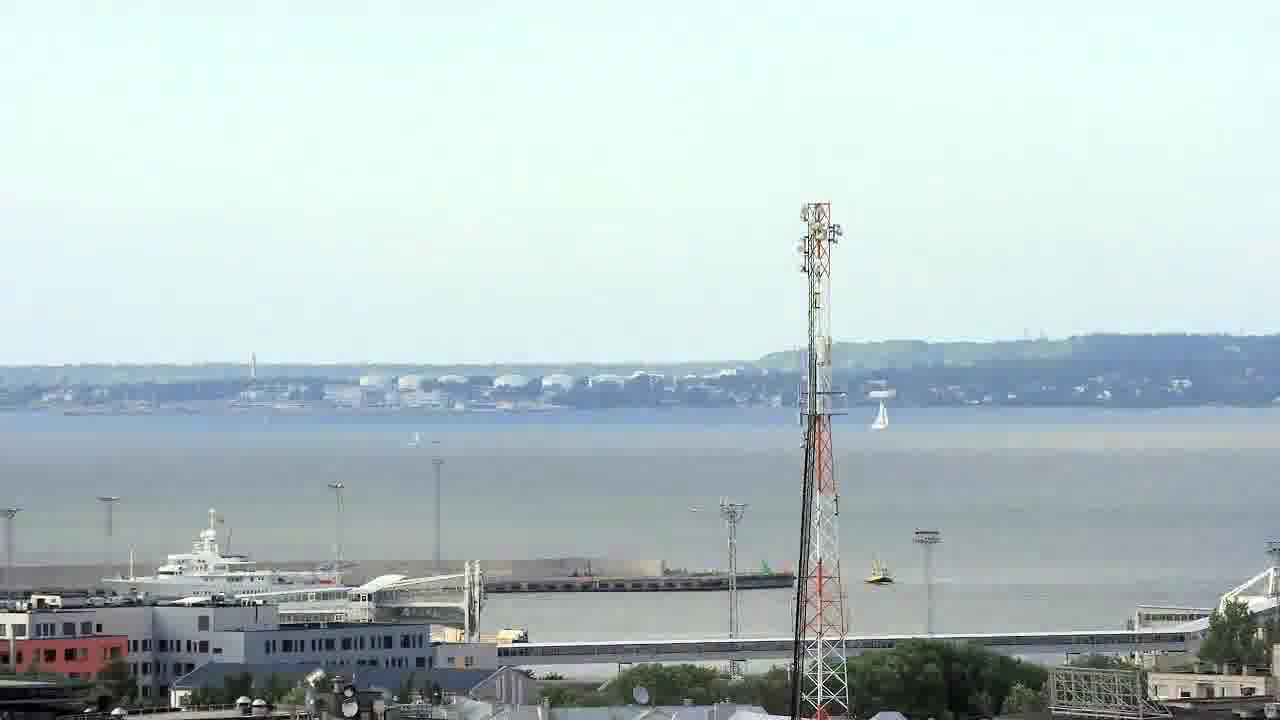type-0: (845, 546, 911, 599)
type-2: (861, 392, 910, 439)
type-3: (88, 507, 346, 605)
